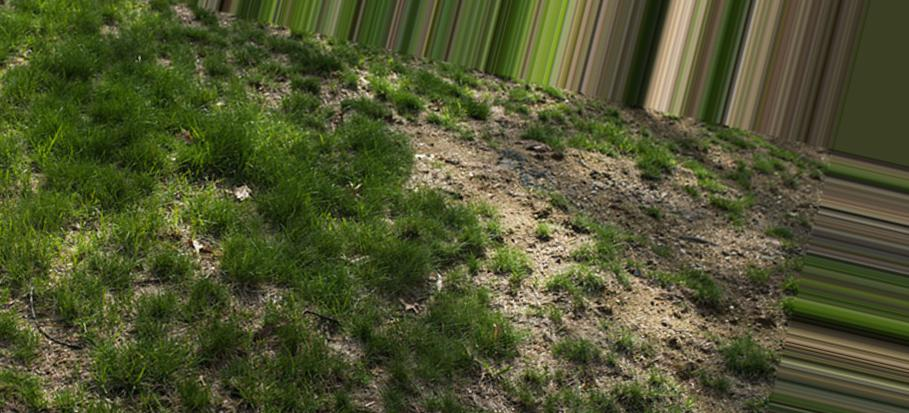patch: (399, 137, 566, 199), (465, 224, 626, 272), (478, 313, 623, 363), (692, 205, 776, 250), (650, 279, 716, 321)
